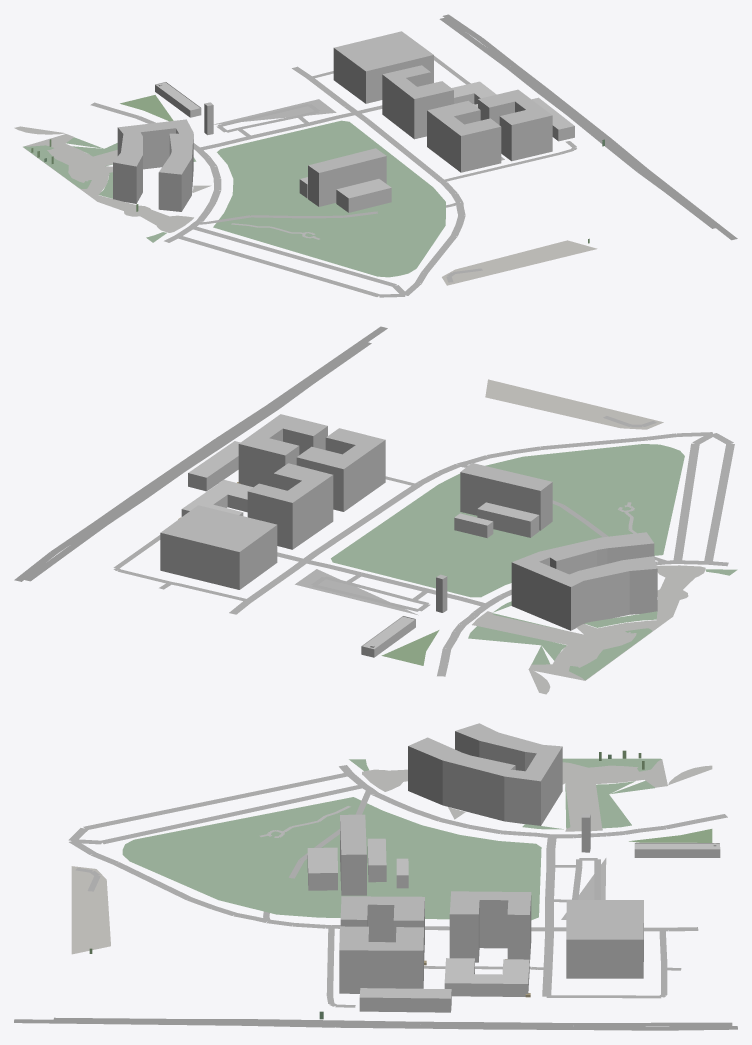
The picture shows the model from 3 angles, top to bottom: view 1: azimuth 30°, elevation 25°; view 2: azimuth 150°, elevation 25°; view 3: azimuth 270°, elevation 25°; orthographic projection. The views are drawn at different scales.
Bounding box in the file's own units: 498 × 42.26 × 565.
